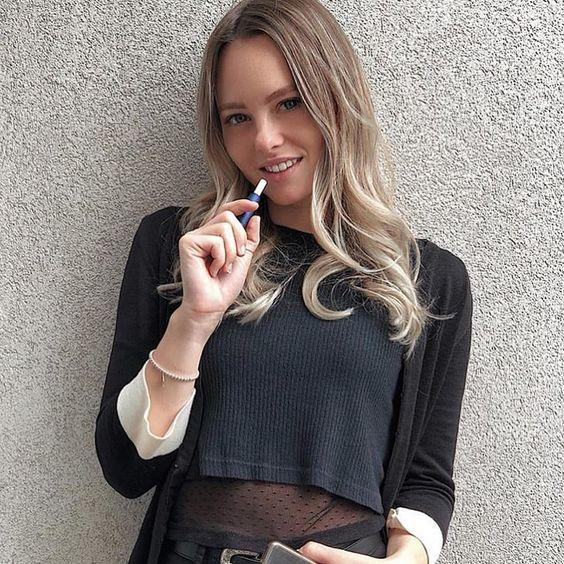iqos: (238, 178, 268, 228)
